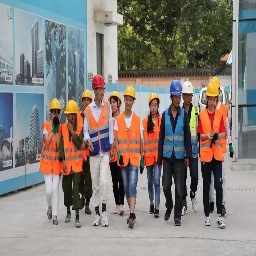helmet: (169, 79, 184, 103), (92, 73, 107, 95), (122, 85, 137, 106), (206, 81, 220, 102), (49, 98, 63, 118), (182, 81, 194, 99), (81, 89, 93, 106)
person: (82, 73, 113, 228), (115, 85, 144, 230), (200, 82, 227, 229), (61, 97, 84, 229), (163, 79, 184, 220), (141, 91, 164, 218)
vest: (198, 110, 225, 161), (85, 106, 111, 154), (116, 114, 140, 165), (62, 121, 84, 171), (164, 110, 186, 158), (43, 121, 61, 172), (141, 117, 159, 166)
